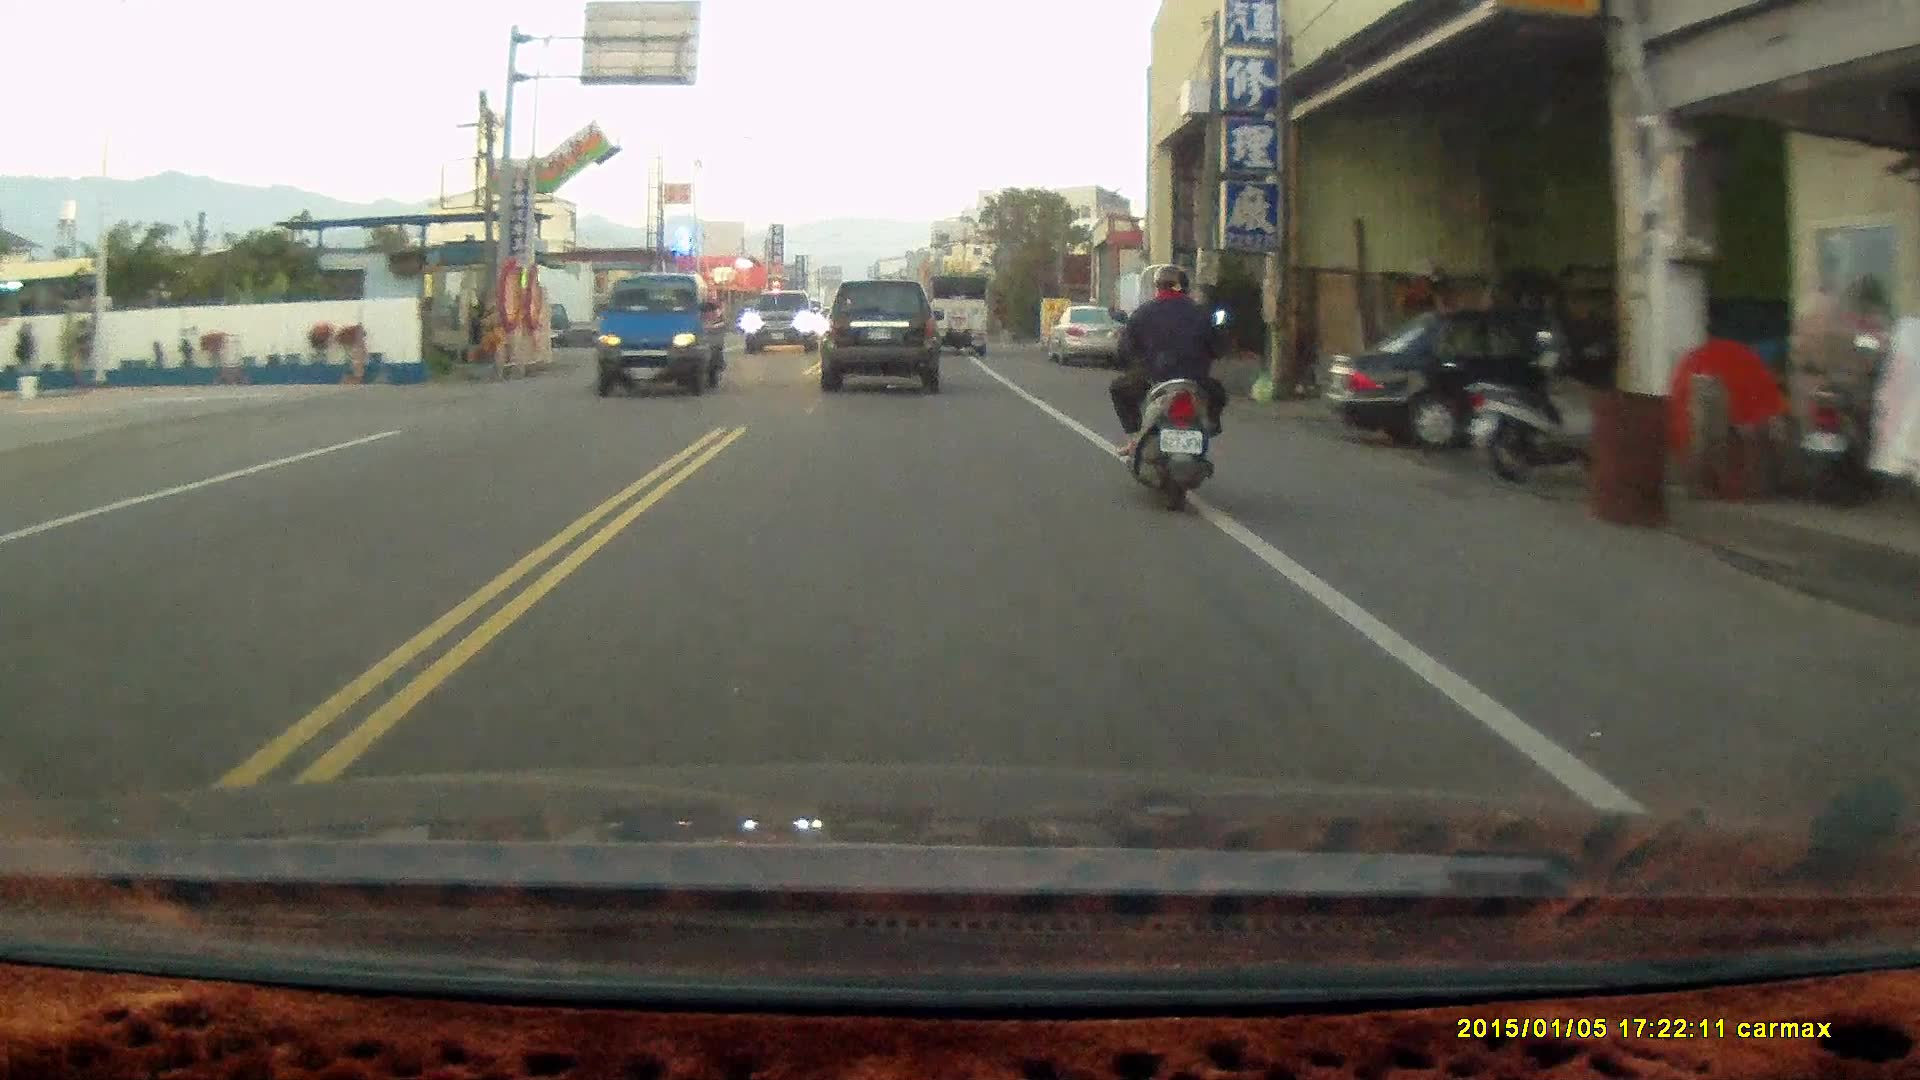rider: (1106, 262, 1228, 513)
vehicle: (1321, 296, 1655, 447), (591, 269, 733, 394), (825, 278, 942, 390), (1041, 299, 1135, 362), (923, 273, 992, 357), (747, 289, 821, 352)
